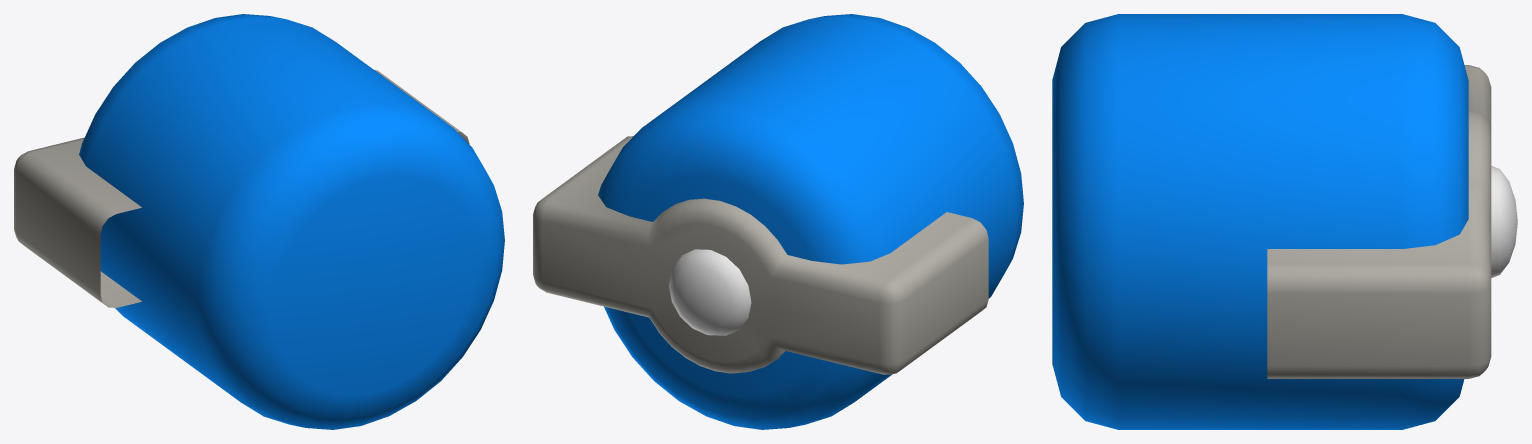
Rendered from RotatingPlatform_pivot.fbx.
3 views of the same model, side by side, from view 1: azimuth 30°, elevation 25°; view 2: azimuth 150°, elevation 25°; view 3: azimuth 270°, elevation 25° (orthographic). The views are drawn at different scales.
Parts seen in each view (by area): view 1: Thing.001; view 2: Thing.001, LightInside.001; view 3: Thing.001, LightInside.001.
Part boxes in pixels (x1=…): Thing.001: x1=14, y1=14, x2=504, y2=429; Thing.001: x1=533, y1=14, x2=1023, y2=429; LightInside.001: x1=669, y1=249, x2=751, y2=335; Thing.001: x1=1052, y1=14, x2=1491, y2=429; LightInside.001: x1=1491, y1=166, x2=1517, y2=277.
Size of the model in its own units: 77.23 by 62.9 by 70.33.
